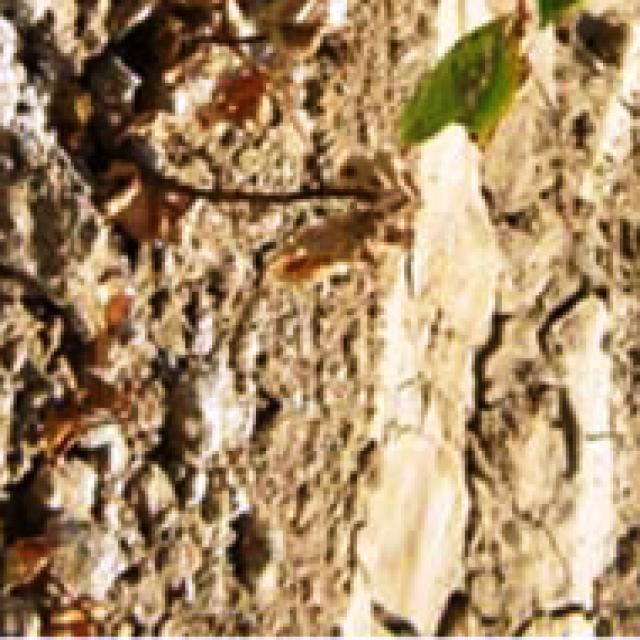Fusarium Wilt: (66, 44, 545, 291)
